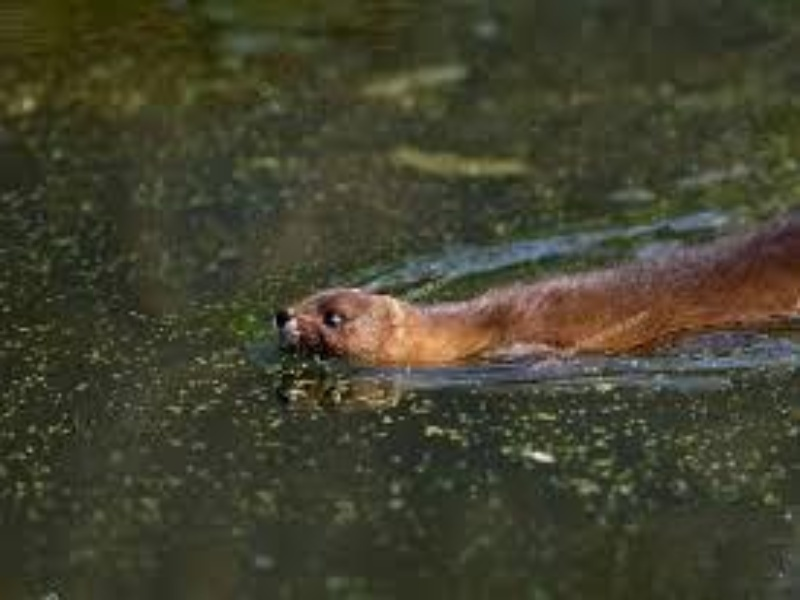minkish: (267, 208, 800, 360)
